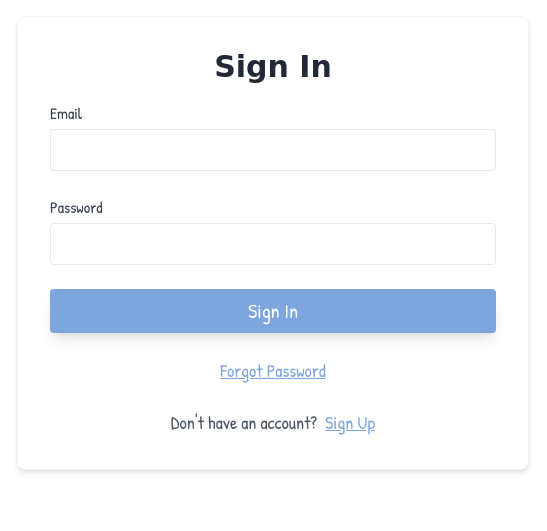
it: AuthForm Component › displays validation errors when fields are empty
This screenshot has width=547, height=531.
Click the button "Sign In" at coordinates (273, 311), box [50, 289, 496, 333]
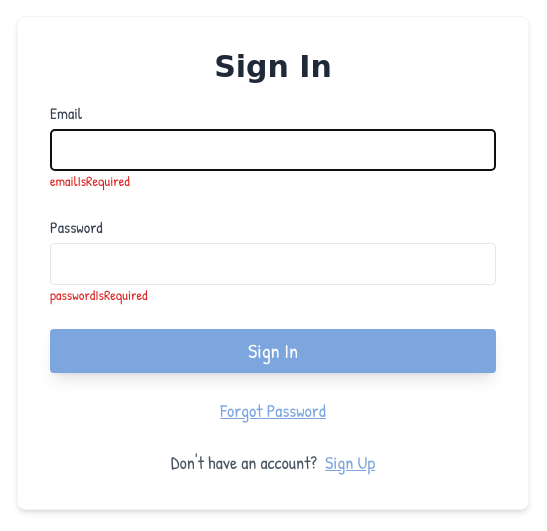
Expected: the text "emailIsRequired" is shown, [50, 171, 130, 190]
Expected: the text "passwordIsRequired" is shown, [50, 285, 148, 304]
